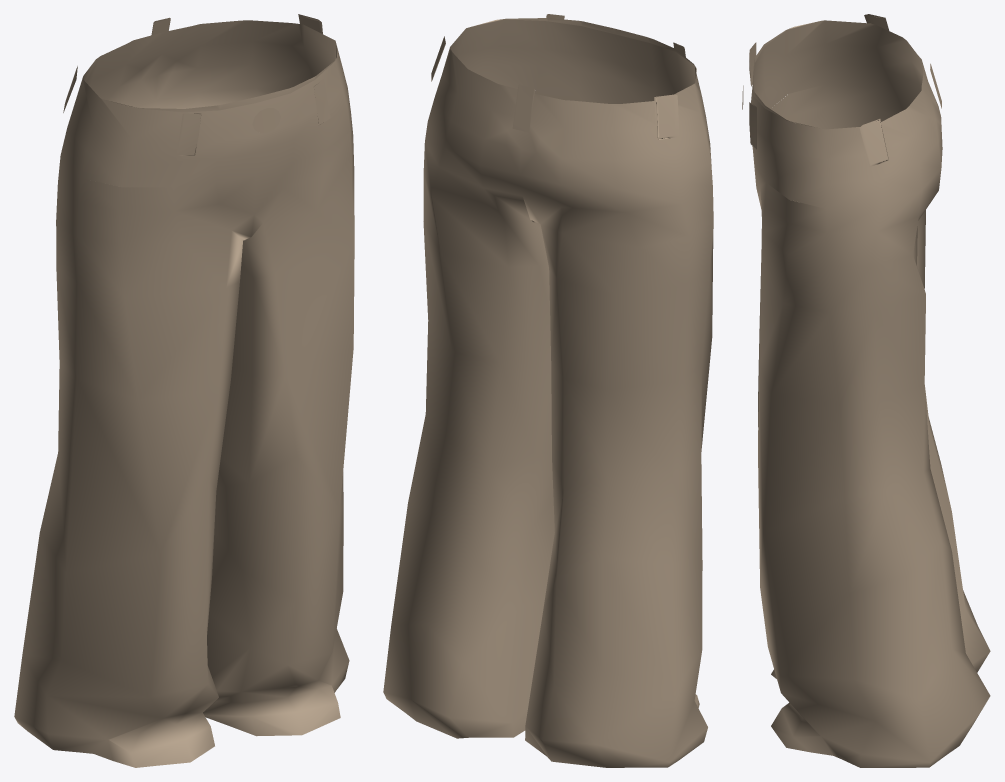
The model's file is straight-only.glb.
3 renders of one model, left to right at view 1: azimuth 30°, elevation 25°; view 2: azimuth 150°, elevation 25°; view 3: azimuth 270°, elevation 25°, orthographic. The views are drawn at different scales.
Visible parts, largest first — view 1: Lowerwear_straight; view 2: Lowerwear_straight; view 3: Lowerwear_straight.
Part boxes in pixels (x1,y1,x2,y2): Lowerwear_straight: [14, 14, 354, 767]; Lowerwear_straight: [383, 14, 713, 767]; Lowerwear_straight: [742, 14, 990, 767].
Bounding box in the file's own units: 1.02 × 2.15 × 0.7625.
